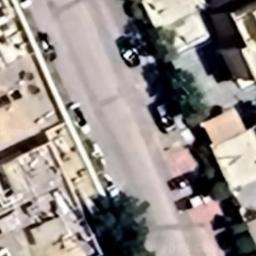pickup: (172, 192, 212, 214)
sedan: (113, 34, 146, 68), (30, 30, 60, 64), (64, 100, 92, 136), (83, 140, 109, 172), (170, 168, 200, 192), (102, 178, 123, 206), (17, 0, 34, 12)
van: (149, 98, 177, 136)
